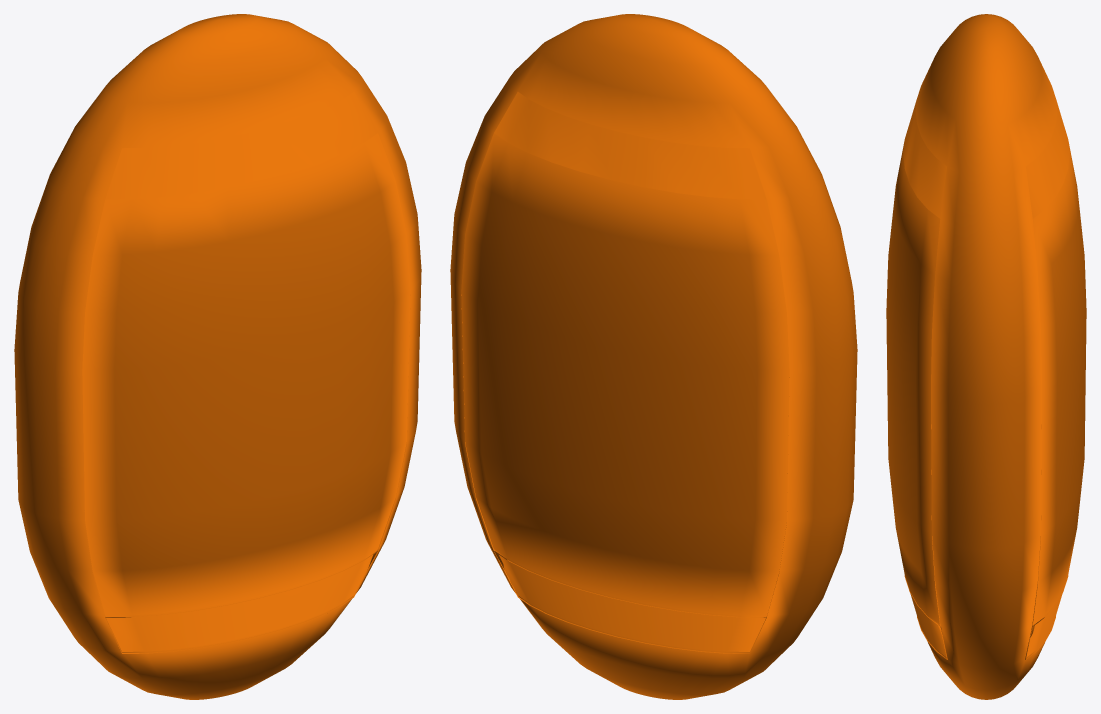
Rendered from orangeCandy.fbx.
3 renders of one model, left to right at view 1: azimuth 30°, elevation 25°; view 2: azimuth 150°, elevation 25°; view 3: azimuth 270°, elevation 25°, orthographic. The views are drawn at different scales.
Visible parts, largest first — view 1: OrangeCandy; view 2: OrangeCandy; view 3: OrangeCandy.
Boxes of the visible parts, bbox=[...] form: OrangeCandy: bbox=[14, 14, 421, 699]; OrangeCandy: bbox=[450, 14, 857, 699]; OrangeCandy: bbox=[886, 14, 1086, 699].
Bounding box in the file's own units: 201 × 327 × 90.38.
